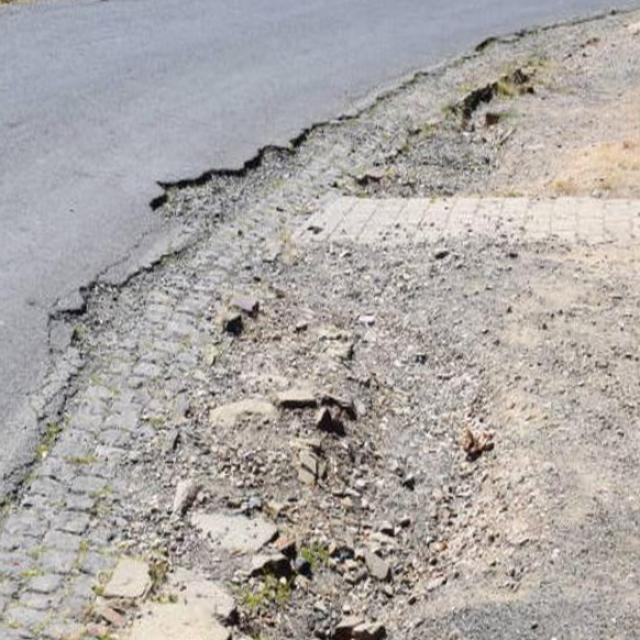Pinggir: (0, 9, 618, 640)
